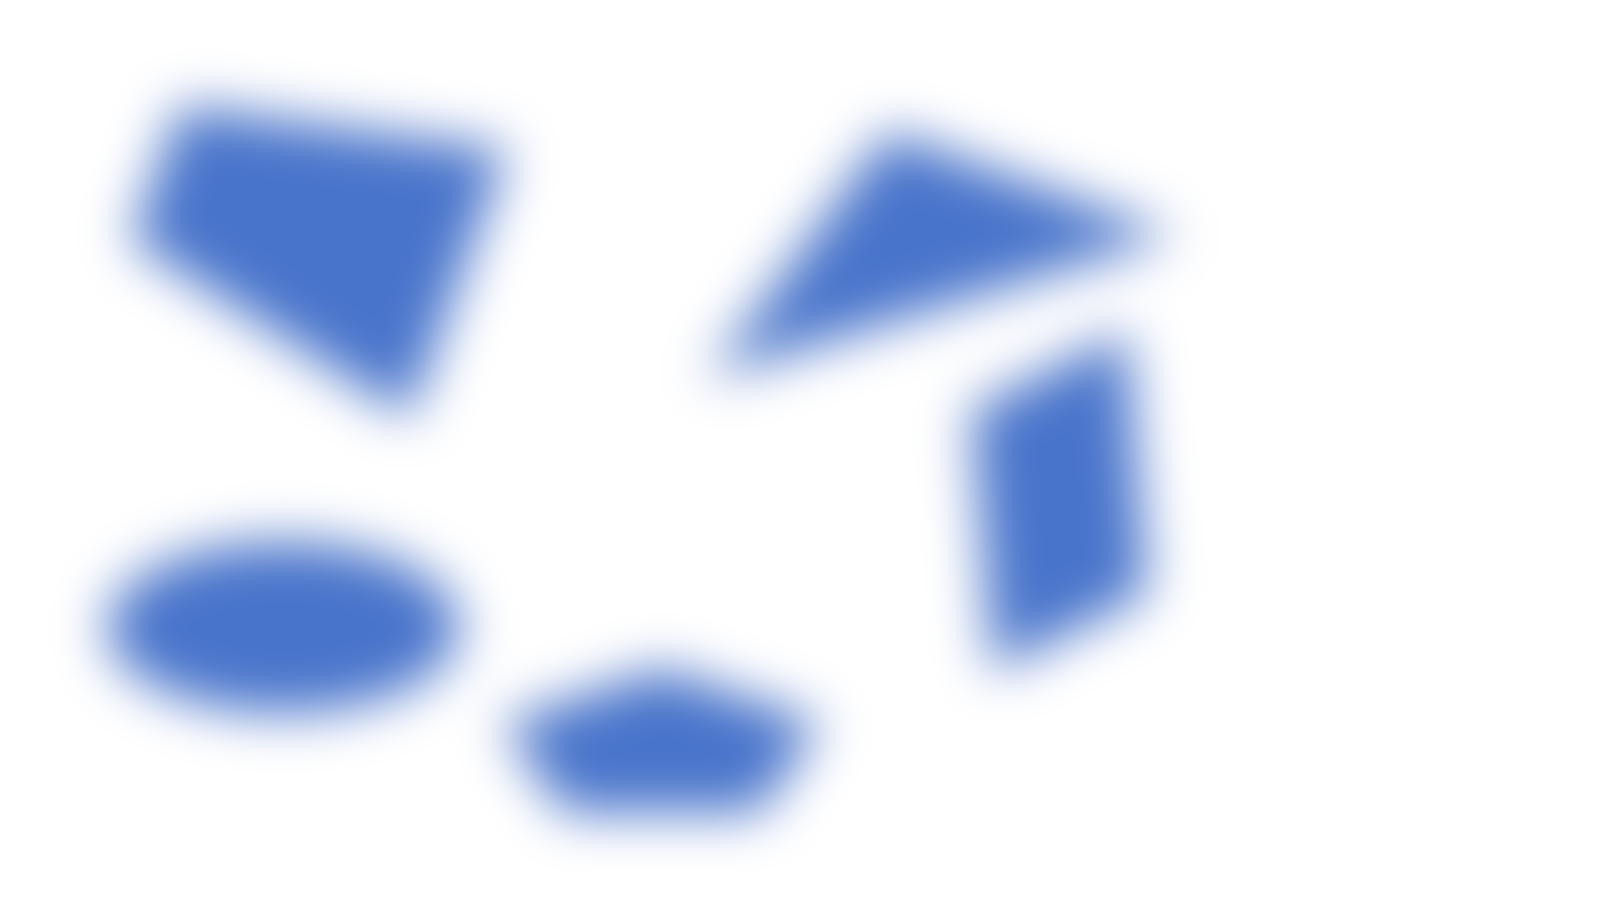circle: (73, 506, 495, 718)
parallelogram: (945, 346, 1186, 666)
pentagon: (492, 629, 833, 837)
trapezium: (111, 60, 538, 432)
triangle: (696, 110, 1142, 397)
